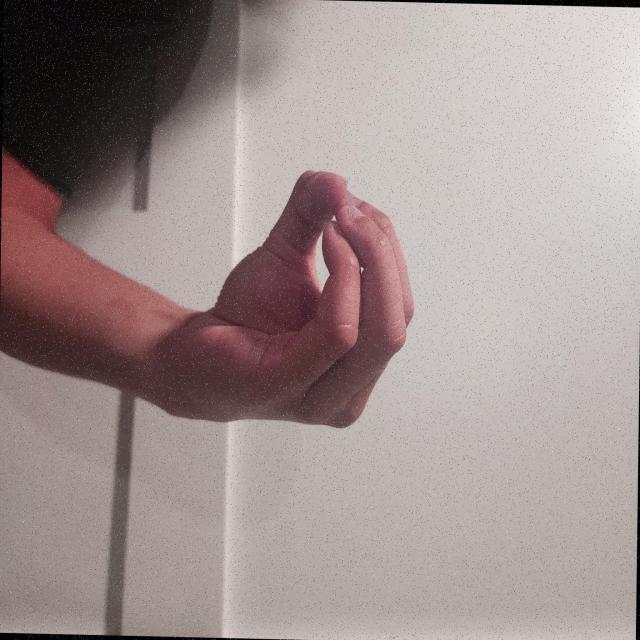O: (277, 297, 488, 640)
